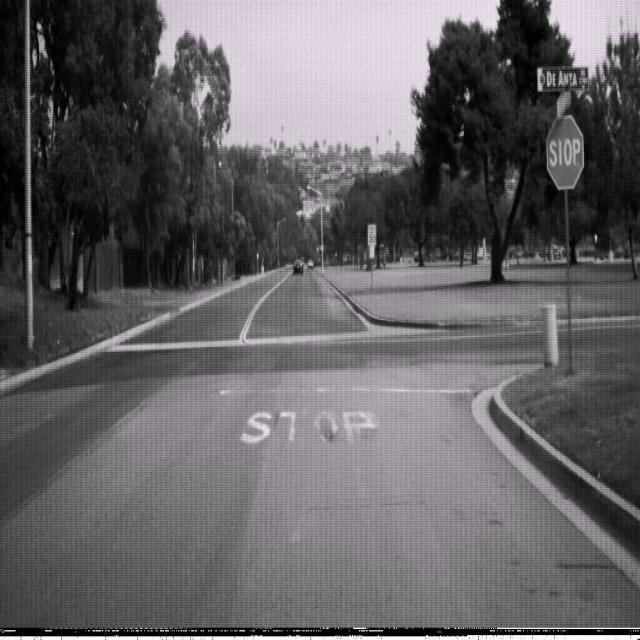stop_sign: (546, 113, 584, 190)
